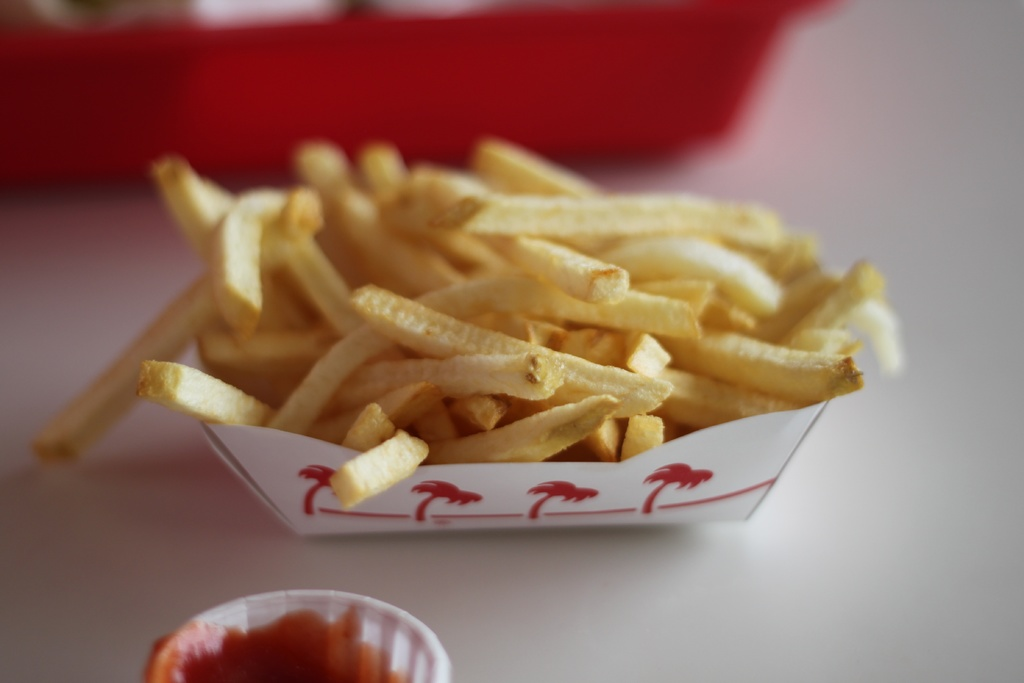French fries: (24, 132, 899, 515)
